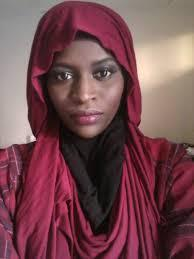No Mask: (34, 26, 144, 157)
